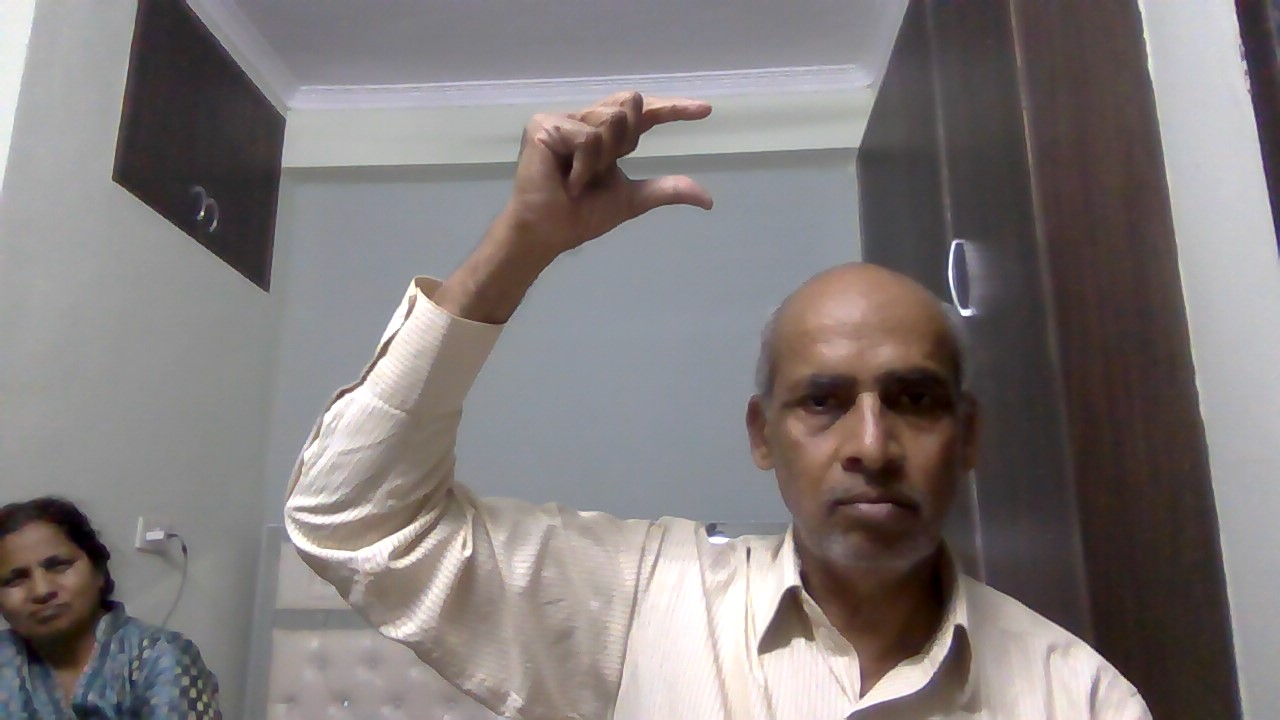Paste: (504, 82, 732, 260)
